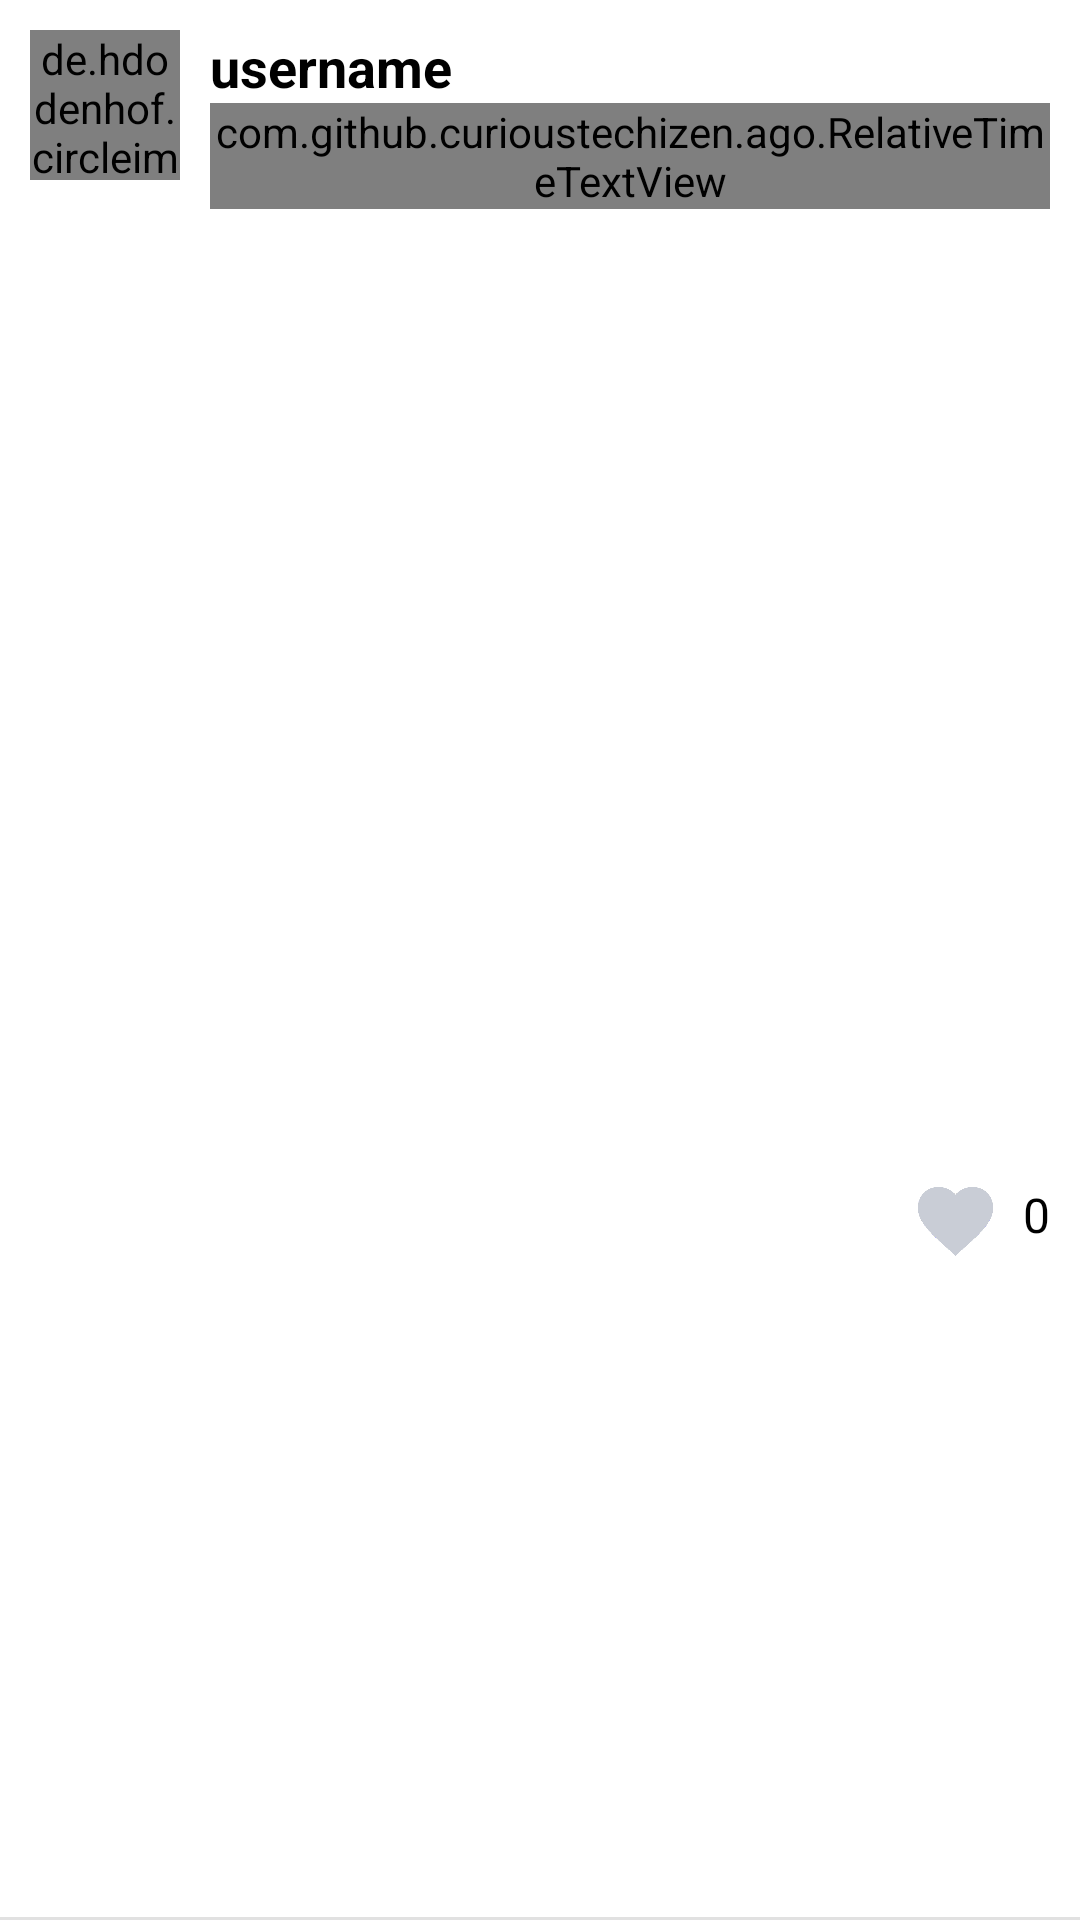

Named icons in this screenshot (1080×1920) and their centers, (x,y):
feed like off: (955,1221)
